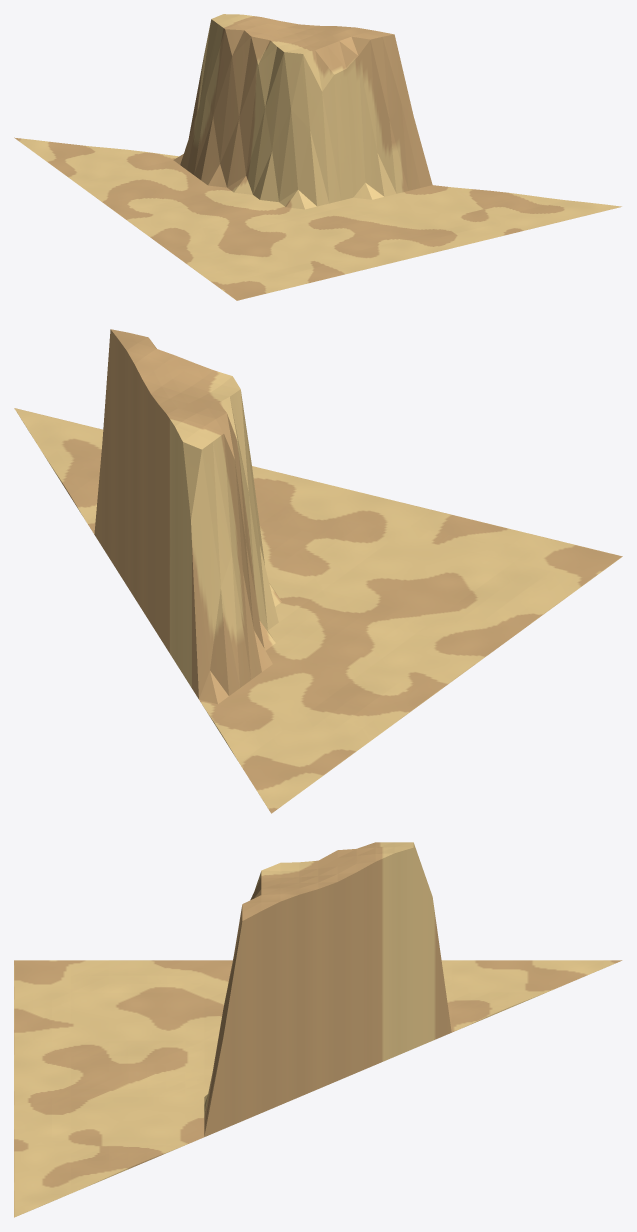
Rendered from Desert_Mountains_04_NW.obj.
The picture shows the model from 3 angles, top to bottom: view 1: azimuth 30°, elevation 25°; view 2: azimuth 150°, elevation 25°; view 3: azimuth 270°, elevation 25°; orthographic projection. The views are drawn at different scales.
Bounding box in the file's own units: 10 × 3.69 × 10.
1 material, 1 textured.
